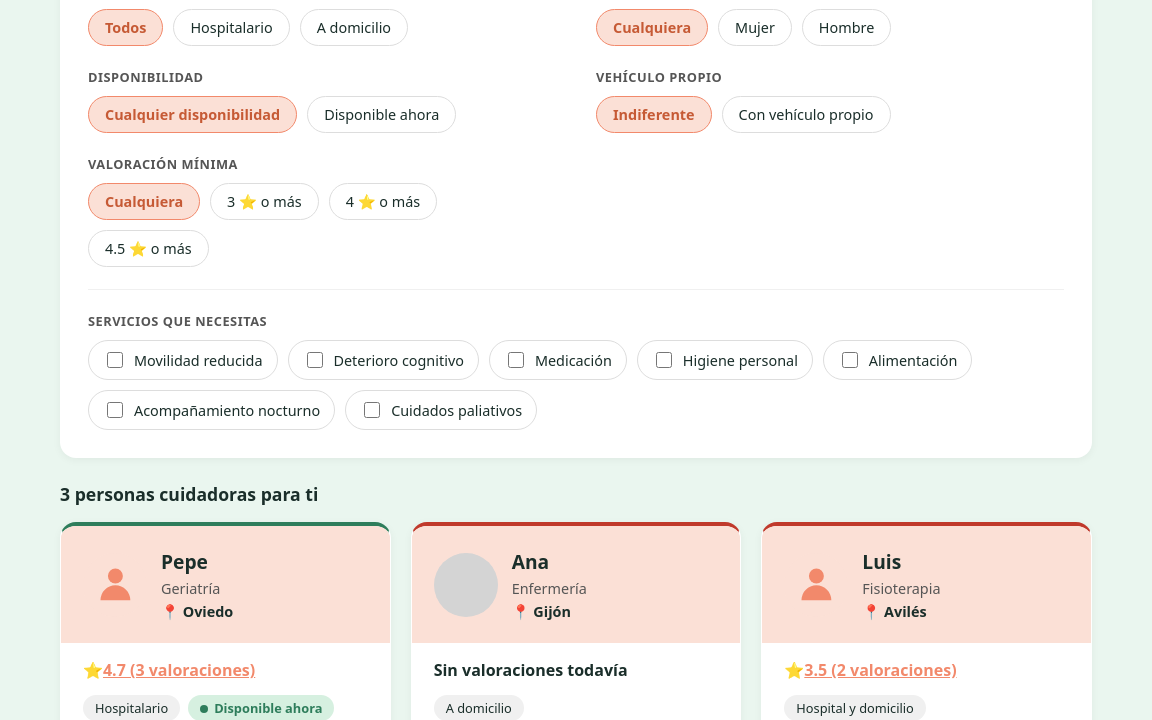
Scenario: BuscarView › con dos servicios marcados solo salen los que ofrecen los dos
(page scrolled)
Click the checkbox with id "filtro-servicio-medicacion" at (516,360), box [508, 352, 524, 368]
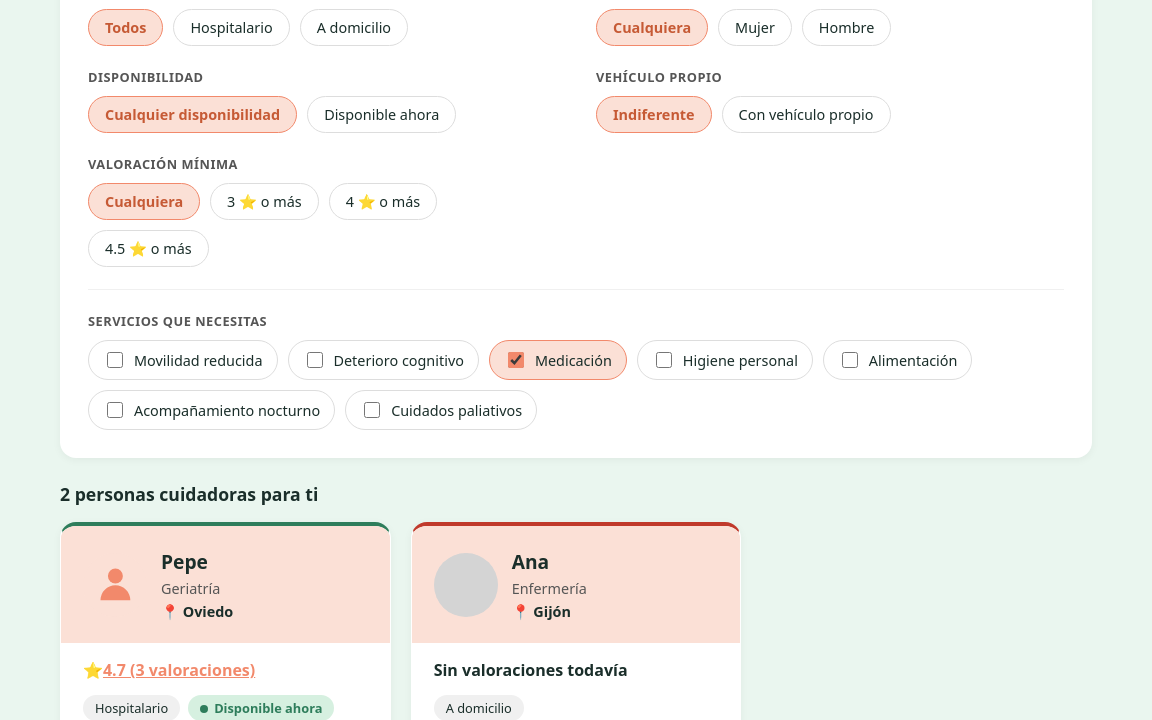
Click the checkbox with id "filtro-servicio-higiene" at (664,360), box [656, 352, 672, 368]
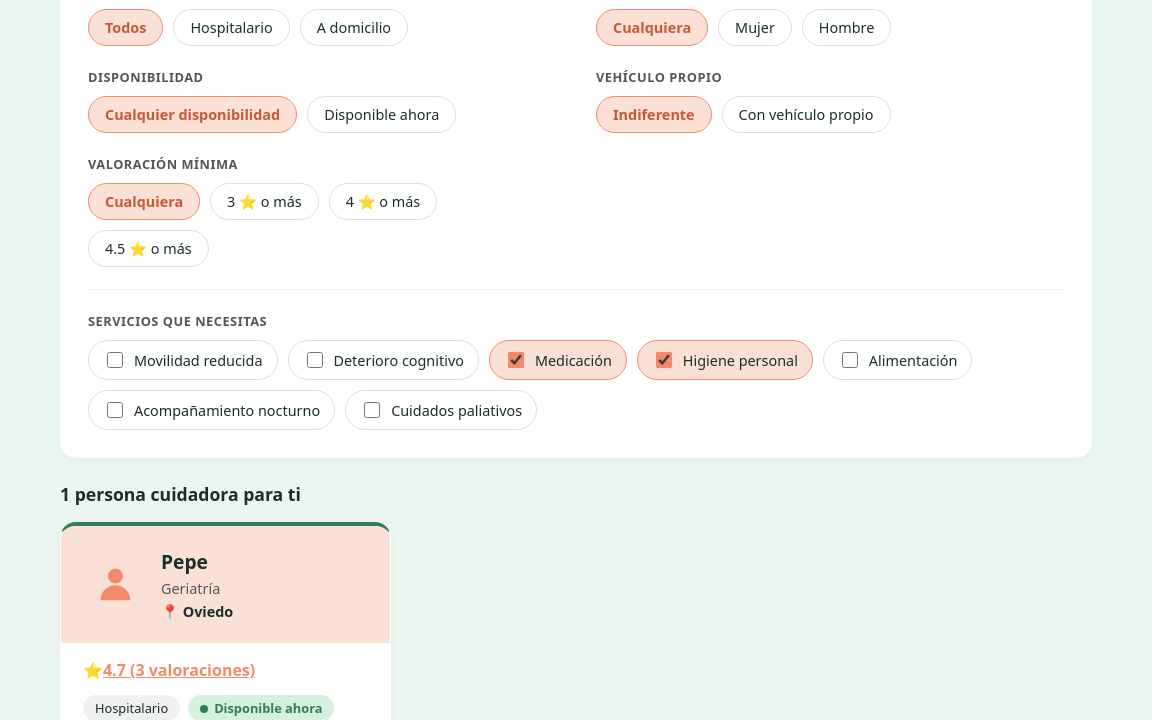
Expected: the text "Pepe" is shown, [161, 548, 208, 575]
Expected: the text "Ana" is gone
